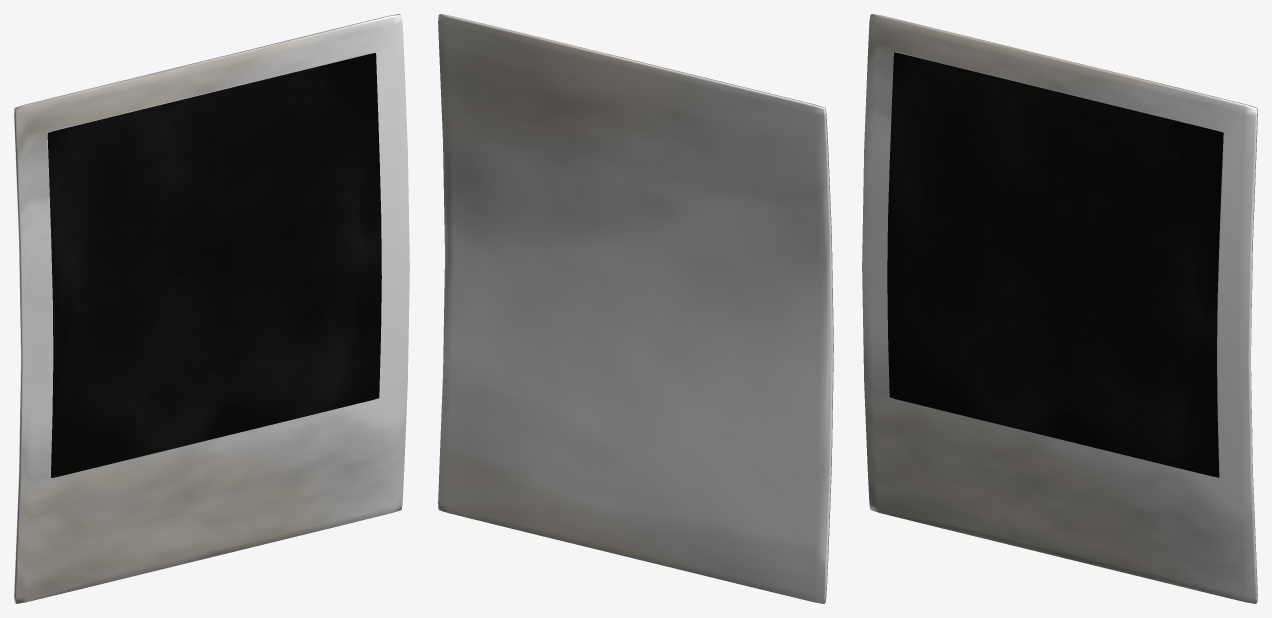
Rendered from photo.fbx.
3 views of the same model, side by side, from view 1: azimuth 30°, elevation 25°; view 2: azimuth 150°, elevation 25°; view 3: azimuth 330°, elevation 25° (orthographic).
Visible parts, largest first — view 1: Plane.001, Cube, Foto; view 2: Cube; view 3: Plane.001, Cube, Foto.
Part boxes in pixels (x1,y1,x2,y2): Plane.001: (47, 53, 381, 477); Cube: (14, 14, 409, 603); Foto: (47, 52, 375, 477); Cube: (438, 14, 833, 603); Plane.001: (887, 52, 1223, 477); Cube: (862, 14, 1257, 603); Foto: (895, 52, 1223, 477).
Size of the model in its own units: 200 by 245 by 11.3.
2 materials, 2 textured.
